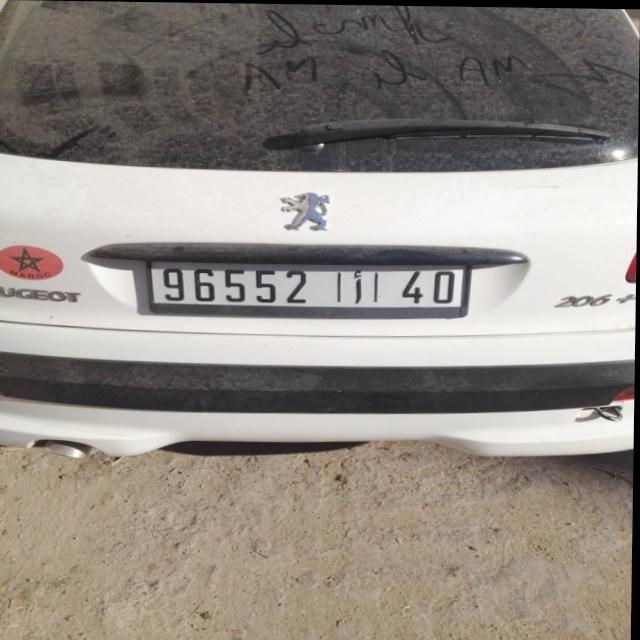License-Plate: (150, 261, 468, 317)
